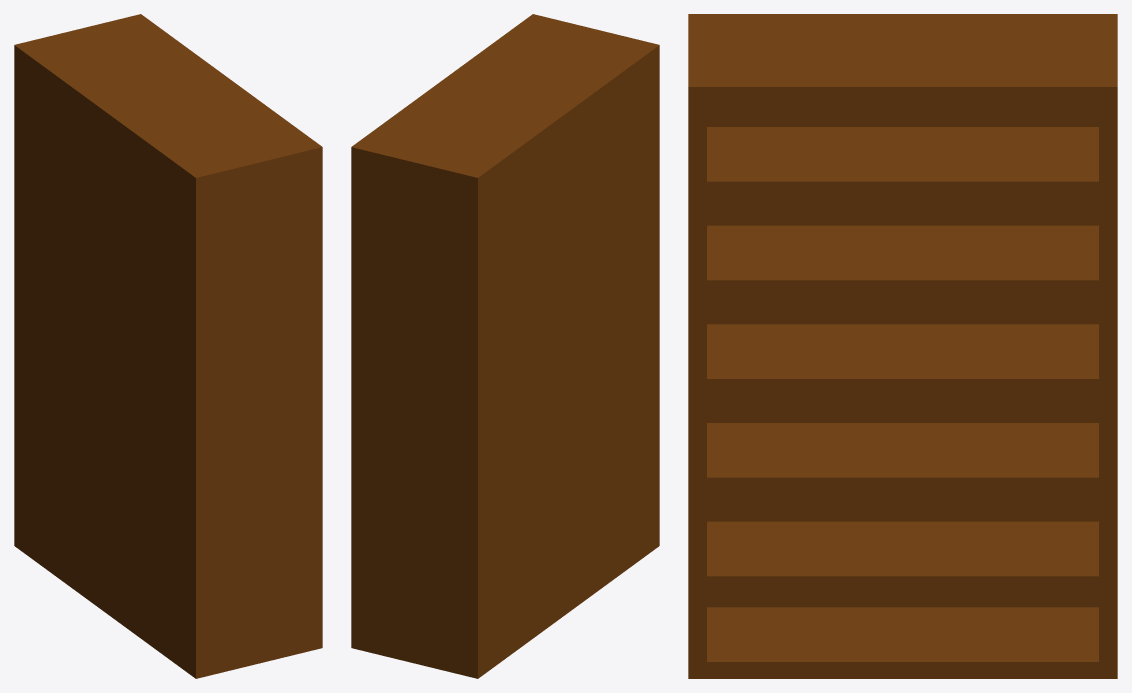
File: Buecherregal.fbx
3 views of the same model, side by side, from view 1: azimuth 30°, elevation 25°; view 2: azimuth 150°, elevation 25°; view 3: azimuth 270°, elevation 25° (orthographic). The views are drawn at different scales.
Visible parts, largest first — view 1: Cube; view 2: Cube; view 3: Cube.
Part boxes in pixels (x1,y1,x2,y2): Cube: (14,14,322,678); Cube: (351,14,659,678); Cube: (688,14,1117,678).
Bounding box in the file's own units: 116 × 438 × 288.
